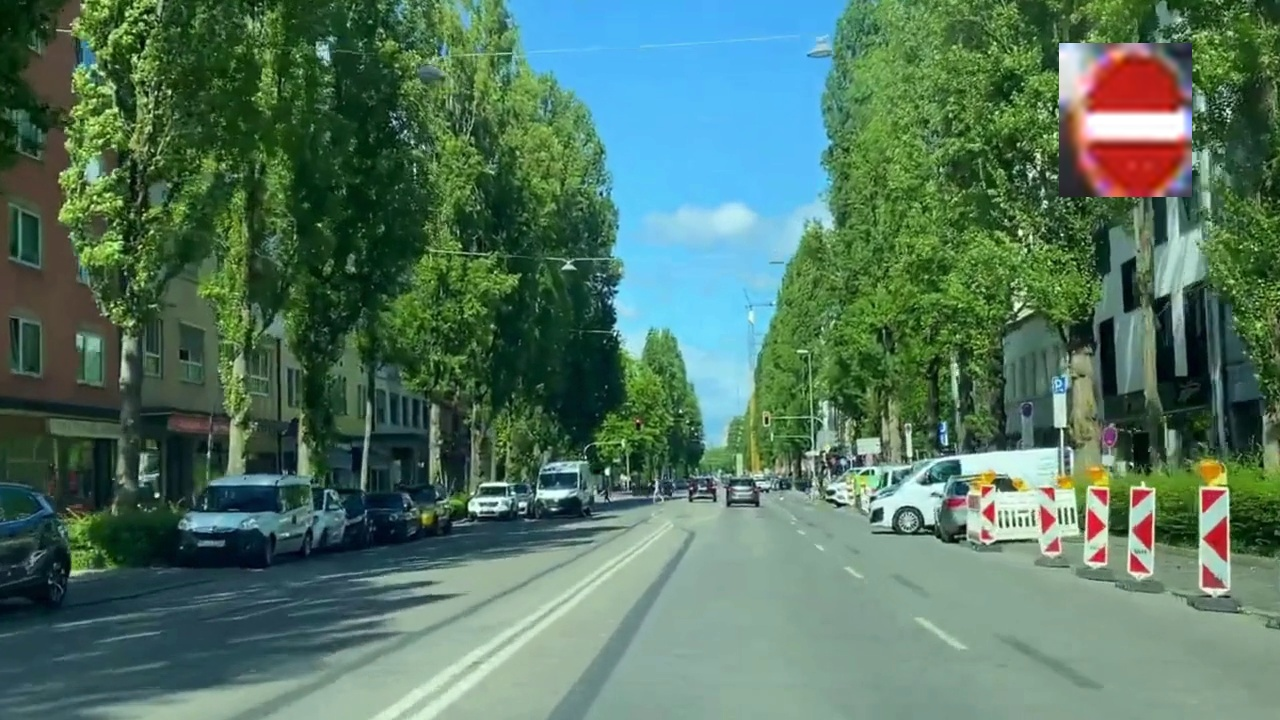No entry: (1059, 43, 1192, 197)
